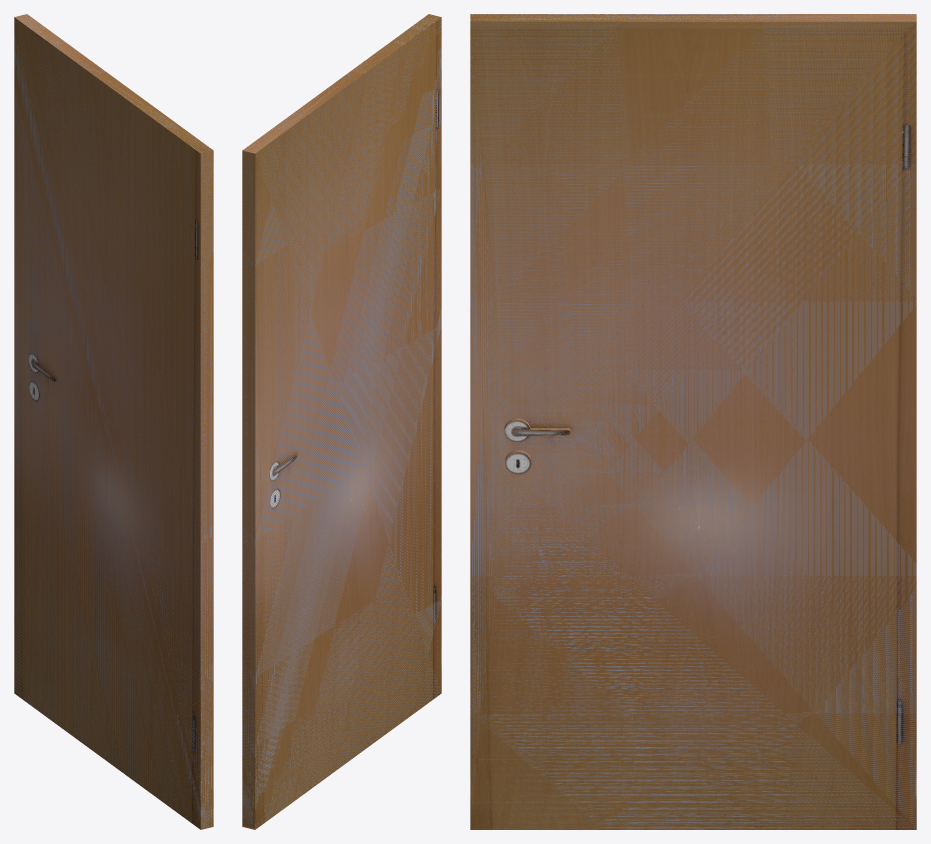
Rendered from Door.obj.
The picture shows the model from 3 angles, left to right: view 1: azimuth 30°, elevation 25°; view 2: azimuth 150°, elevation 25°; view 3: azimuth 270°, elevation 25°; orthographic projection. The views are drawn at different scales.
Visible parts, largest first — view 1: Mesh1 Model; view 2: Mesh1 Model; view 3: Mesh1 Model.
Boxes of the visible parts, box(x1,y1,x2,y2) form: Mesh1 Model: box(14, 14, 213, 829); Mesh1 Model: box(242, 14, 441, 829); Mesh1 Model: box(470, 14, 916, 829).
Size of the model in its own units: 0.05 by 2 by 1.
Materials: 2 (1 with a texture image).
